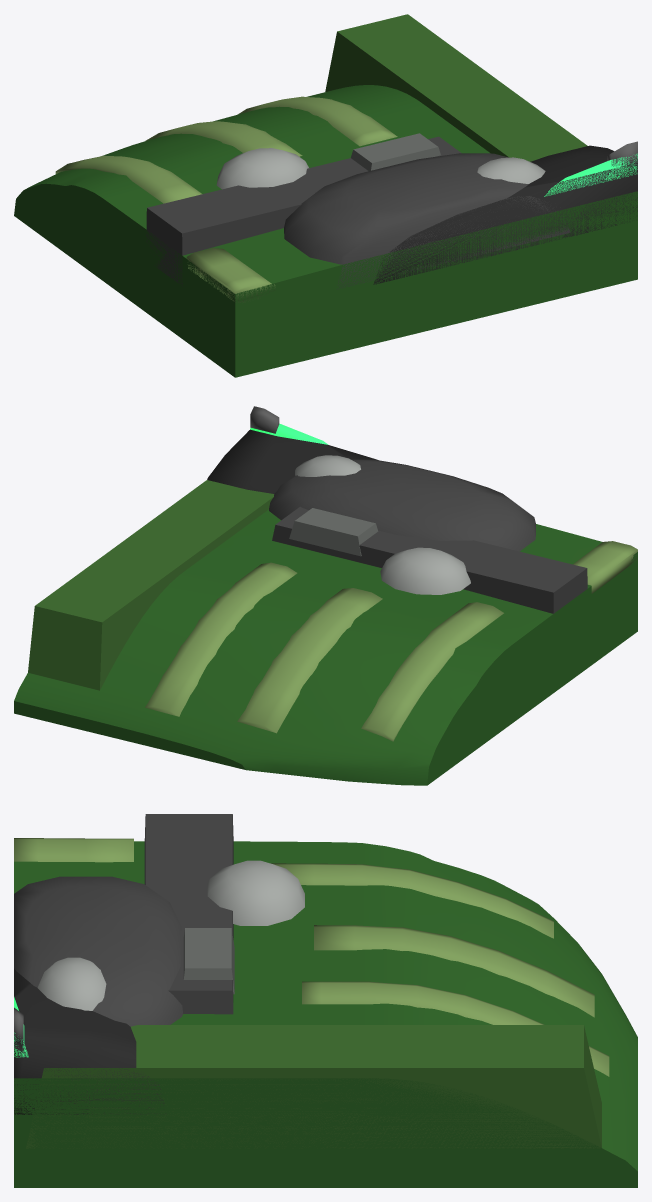
The model's file is newshj-155.glb.
The picture shows the model from 3 angles, top to bottom: view 1: azimuth 30°, elevation 25°; view 2: azimuth 150°, elevation 25°; view 3: azimuth 270°, elevation 25°; orthographic projection. The views are drawn at different scales.
Visible parts, largest first — view 1: newshj-155; view 2: newshj-155; view 3: newshj-155.
Boxes of the visible parts, x1,y1,x2,y2 form: newshj-155: (14, 14, 637, 377); newshj-155: (14, 406, 637, 785); newshj-155: (14, 814, 637, 1187).
Size of the model in its own units: 2 by 0.6554 by 2.17.
